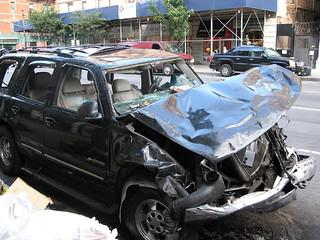bonnet-dent: (136, 69, 300, 153)
front-bumper-dent: (181, 152, 309, 217)
roof-dent: (15, 38, 172, 68)
